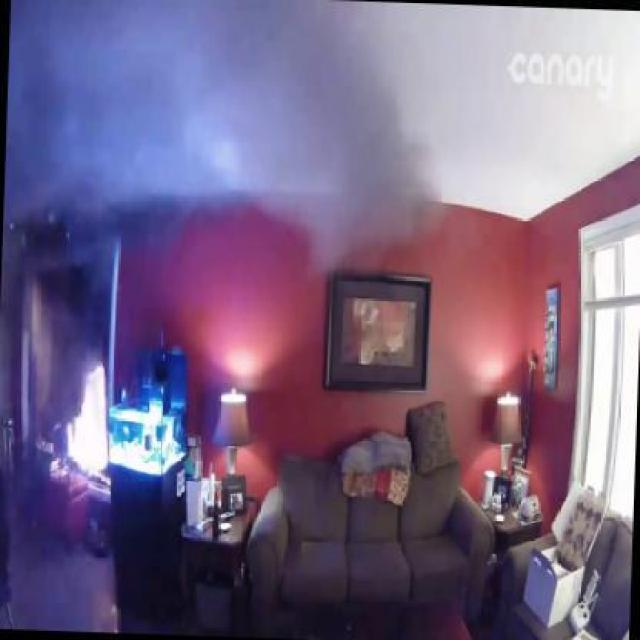fire: (15, 7, 448, 278)
